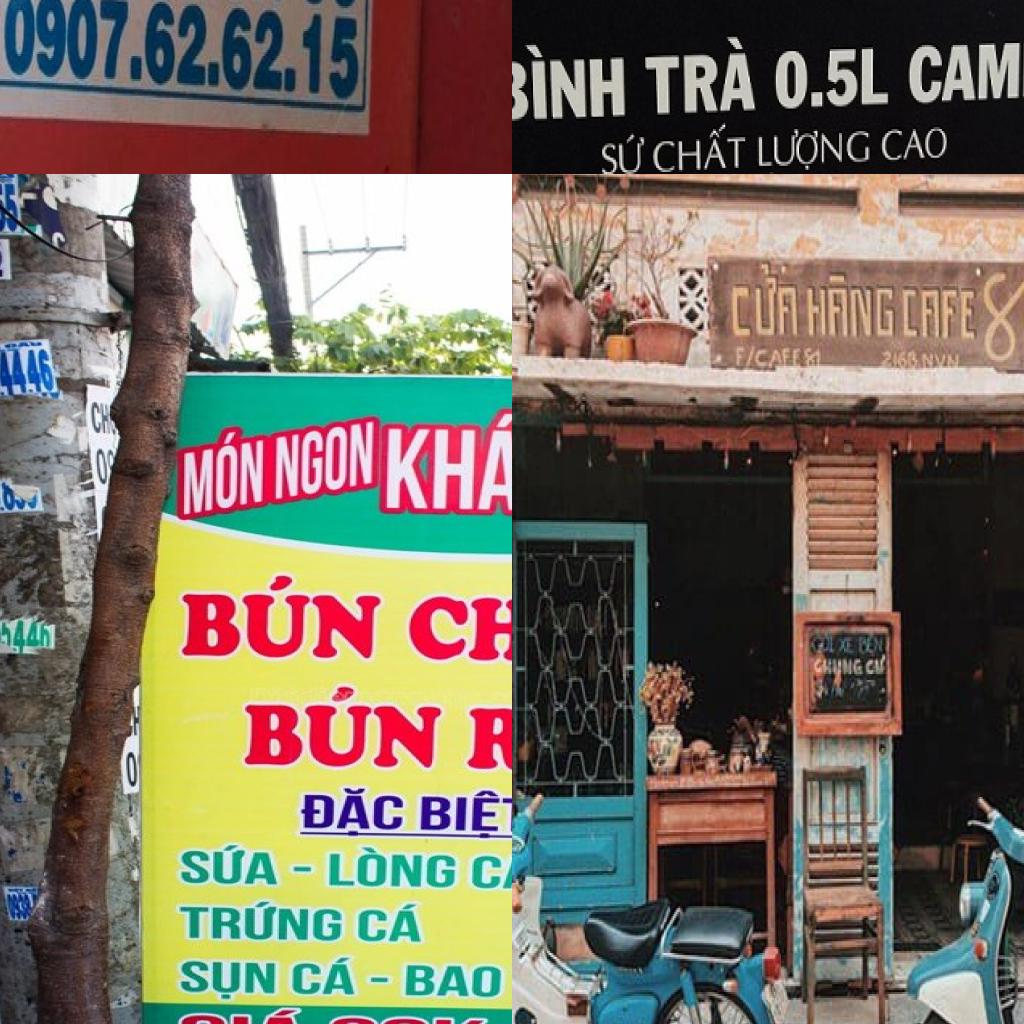text: (173, 570, 388, 666), (242, 683, 448, 775), (374, 401, 512, 522), (401, 567, 512, 668), (176, 418, 273, 524), (639, 35, 761, 119), (272, 413, 380, 507), (512, 41, 630, 127), (767, 41, 894, 113), (905, 32, 1024, 108), (174, 899, 348, 945), (324, 842, 464, 892), (170, 841, 314, 889), (804, 270, 896, 344), (293, 784, 408, 839), (751, 125, 874, 174), (730, 258, 801, 340), (647, 120, 753, 174), (412, 788, 512, 841), (459, 684, 512, 779), (176, 955, 281, 1001), (901, 282, 980, 341), (285, 956, 395, 998), (403, 960, 504, 1001), (0, 346, 58, 412), (980, 268, 1018, 368), (879, 123, 956, 170), (351, 902, 429, 945), (172, 1004, 316, 1024), (594, 131, 654, 174), (322, 1011, 512, 1024), (467, 843, 512, 892), (752, 346, 803, 372), (0, 179, 21, 240), (89, 398, 116, 436), (920, 348, 962, 372), (815, 657, 864, 676), (91, 447, 113, 488), (880, 350, 920, 372), (1016, 268, 1024, 365), (123, 748, 140, 792), (5, 894, 31, 922), (857, 633, 885, 657), (864, 653, 888, 678), (803, 346, 823, 372), (731, 342, 746, 370), (744, 342, 758, 372), (838, 635, 857, 657), (0, 472, 7, 515)
